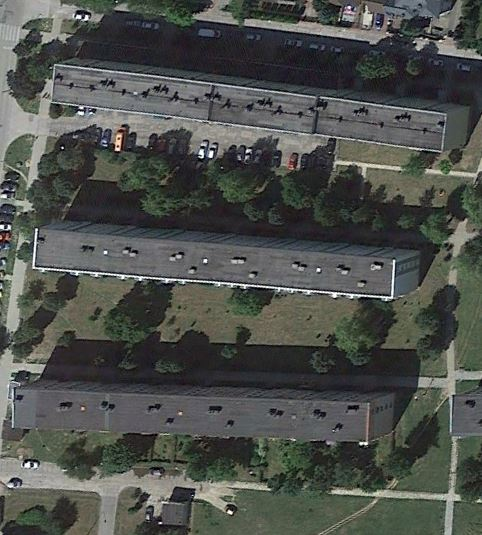block of flats: (45, 53, 474, 165), (24, 218, 427, 310), (6, 374, 405, 447)
